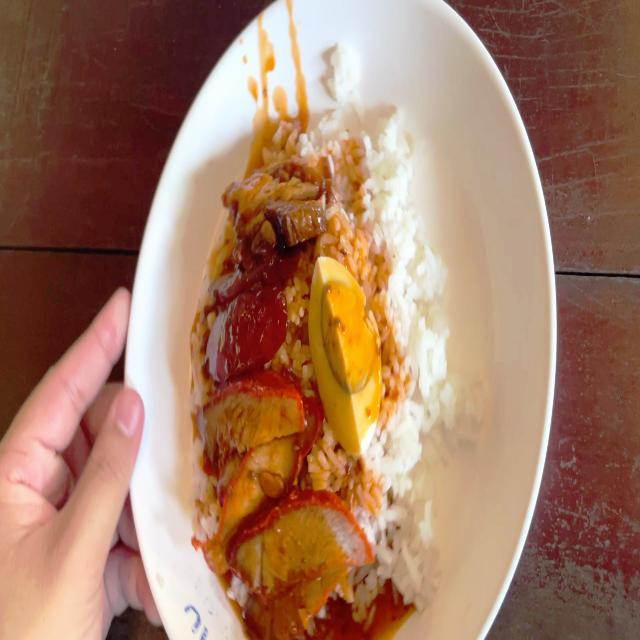boiled_egg: (313, 267, 381, 446)
chainese_sausage: (208, 241, 290, 361)
crispy_pork: (235, 159, 333, 229)
red_pork: (199, 384, 317, 550), (257, 507, 364, 619)
red_pork_and_crispy_pork: (196, 126, 484, 614)
rice: (386, 306, 482, 447), (372, 158, 437, 324), (378, 424, 428, 564)
